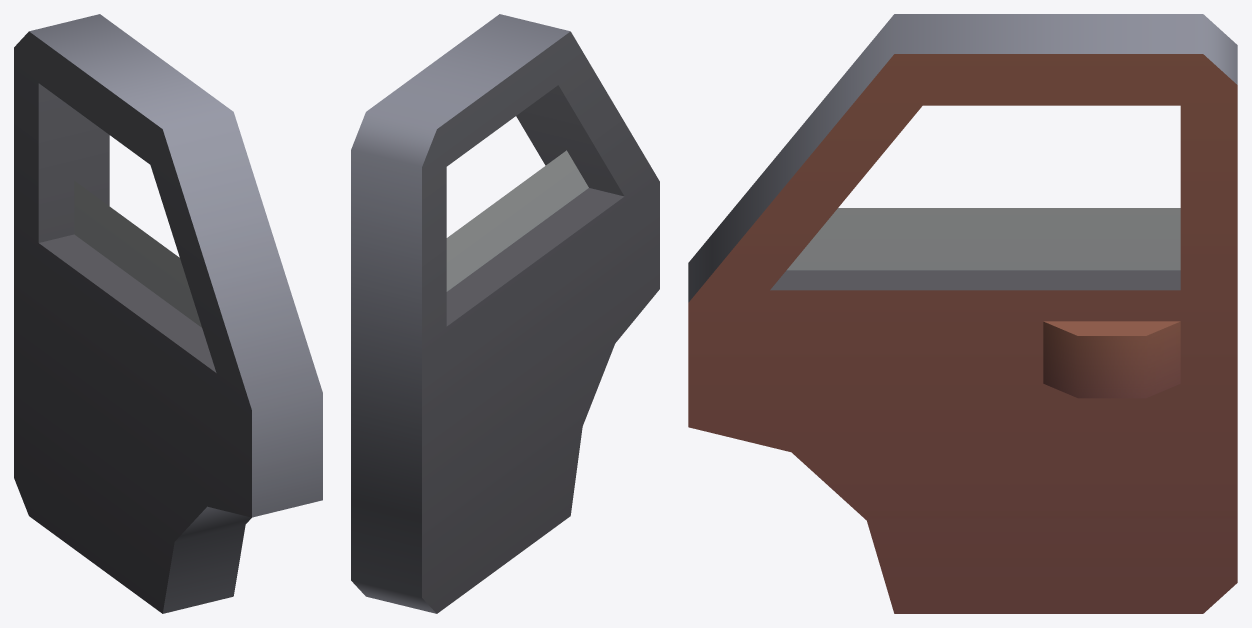
Rendered from debris_door_window.glb.
3 renders of one model, left to right at view 1: azimuth 30°, elevation 25°; view 2: azimuth 150°, elevation 25°; view 3: azimuth 270°, elevation 25°, orthographic. The views are drawn at different scales.
Parts seen in each view (by area): view 1: debris-door-window; view 2: debris-door-window; view 3: debris-door-window.
Boxes of the visible parts, x1,y1,x2,y2 form: debris-door-window: [14, 14, 322, 613]; debris-door-window: [351, 14, 659, 613]; debris-door-window: [688, 14, 1237, 613].
Size of the model in its own units: 0.225 by 1.08 by 0.9574.
Materials: 1 (1 with a texture image).
